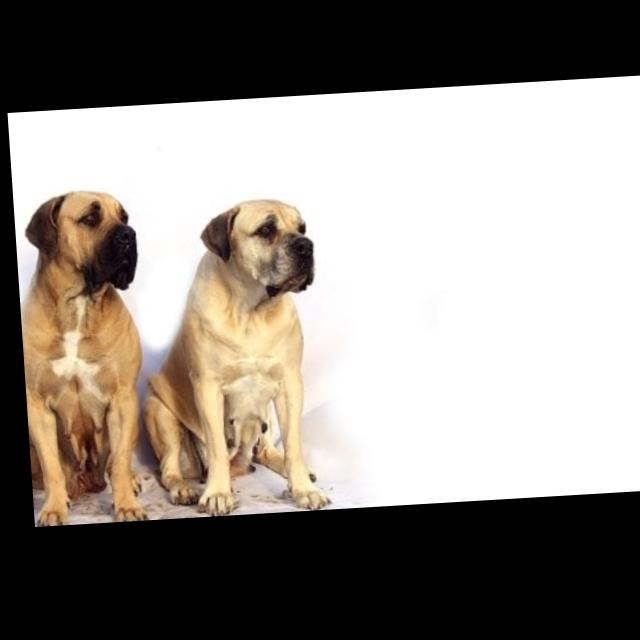mastiff: (125, 200, 326, 523), (12, 188, 150, 528)
